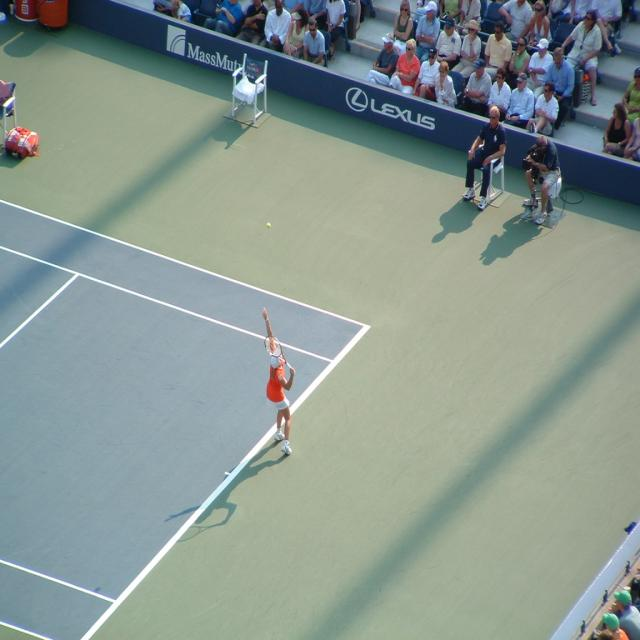Tennis ball: (265, 222, 271, 228)
